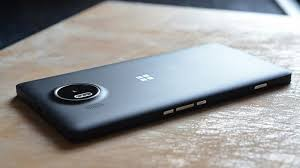nokia: (11, 34, 291, 152)
